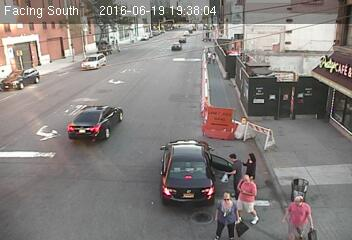neg: (58, 90, 86, 128), (168, 159, 194, 195), (270, 97, 295, 129), (123, 56, 141, 79), (286, 167, 304, 190), (211, 115, 222, 129)
pos: (207, 191, 242, 238), (283, 192, 318, 238), (210, 51, 222, 66), (202, 49, 213, 64)
